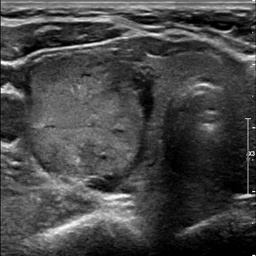mass: (28, 59, 149, 180)
